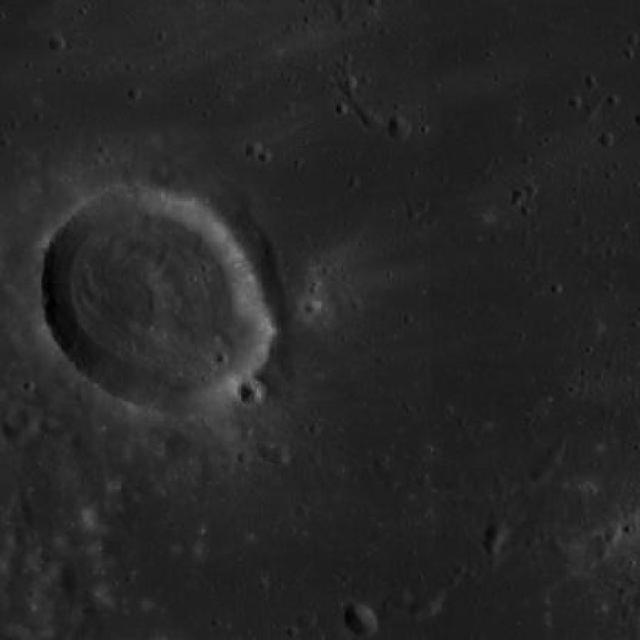crater: (38, 188, 266, 410), (549, 564, 630, 640), (344, 603, 379, 639), (3, 418, 34, 449), (17, 408, 46, 437), (441, 477, 468, 503), (240, 380, 266, 406), (268, 444, 292, 467), (388, 120, 412, 142), (528, 462, 552, 484), (487, 522, 510, 544), (194, 464, 217, 486), (295, 610, 317, 632), (390, 590, 412, 612), (420, 594, 442, 616), (243, 140, 263, 160), (256, 442, 276, 460), (408, 602, 428, 620), (485, 596, 503, 616), (362, 112, 380, 131), (543, 452, 562, 470), (548, 538, 567, 556), (195, 446, 214, 464), (304, 298, 322, 316), (548, 442, 566, 460), (52, 38, 68, 56), (429, 586, 446, 602), (600, 132, 617, 148), (626, 622, 640, 640)
